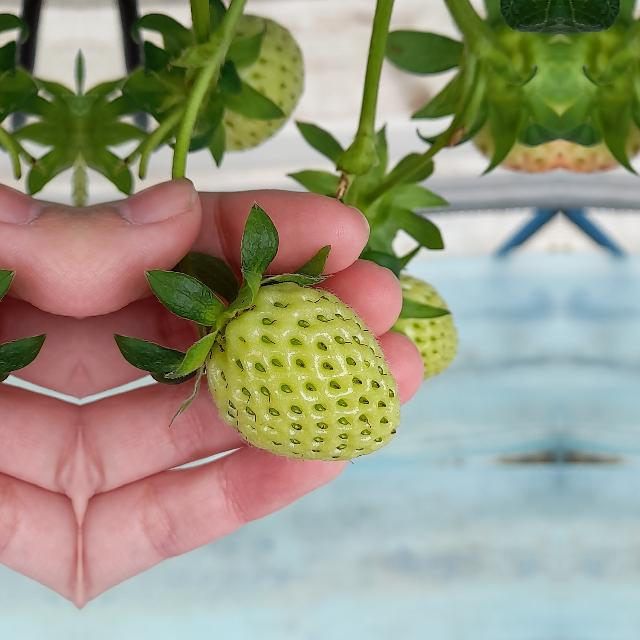Health_25: (206, 282, 400, 460)
